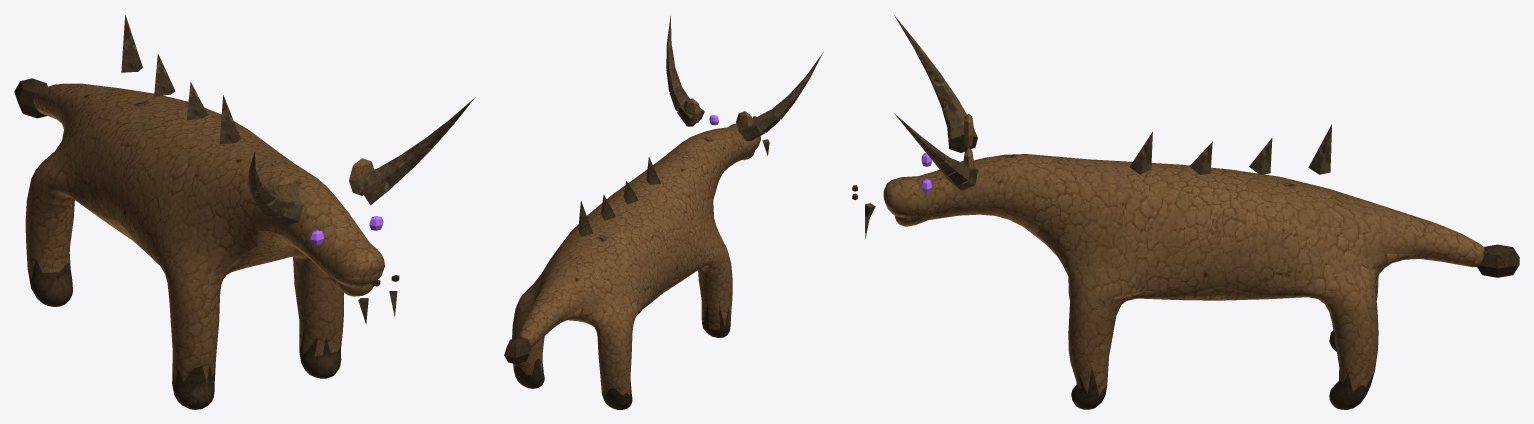
File: mon_quad_04.glb
The picture shows the model from 3 angles, left to right: view 1: azimuth 30°, elevation 25°; view 2: azimuth 150°, elevation 25°; view 3: azimuth 270°, elevation 25°; orthographic projection. The views are drawn at different scales.
Visible parts, largest first — view 1: mon_quad_04; view 2: mon_quad_04; view 3: mon_quad_04.
Part boxes in pixels (x1,y1,x2,y2): mon_quad_04: (14,15,475,409); mon_quad_04: (504,16,823,409); mon_quad_04: (852,15,1519,409).
Size of the model in its own units: 0.5527 by 0.8277 by 1.58.
5 materials, 4 textured.
